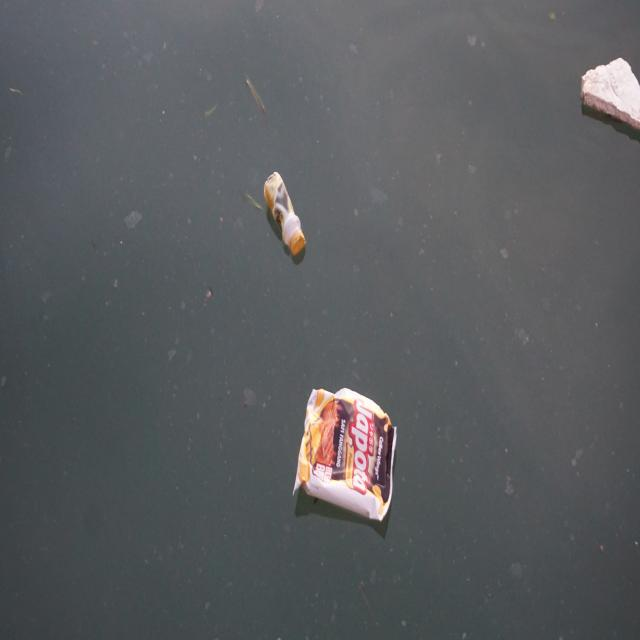Botol Plastik: (260, 168, 311, 265)
Bungkus Makanan: (289, 383, 404, 536)
